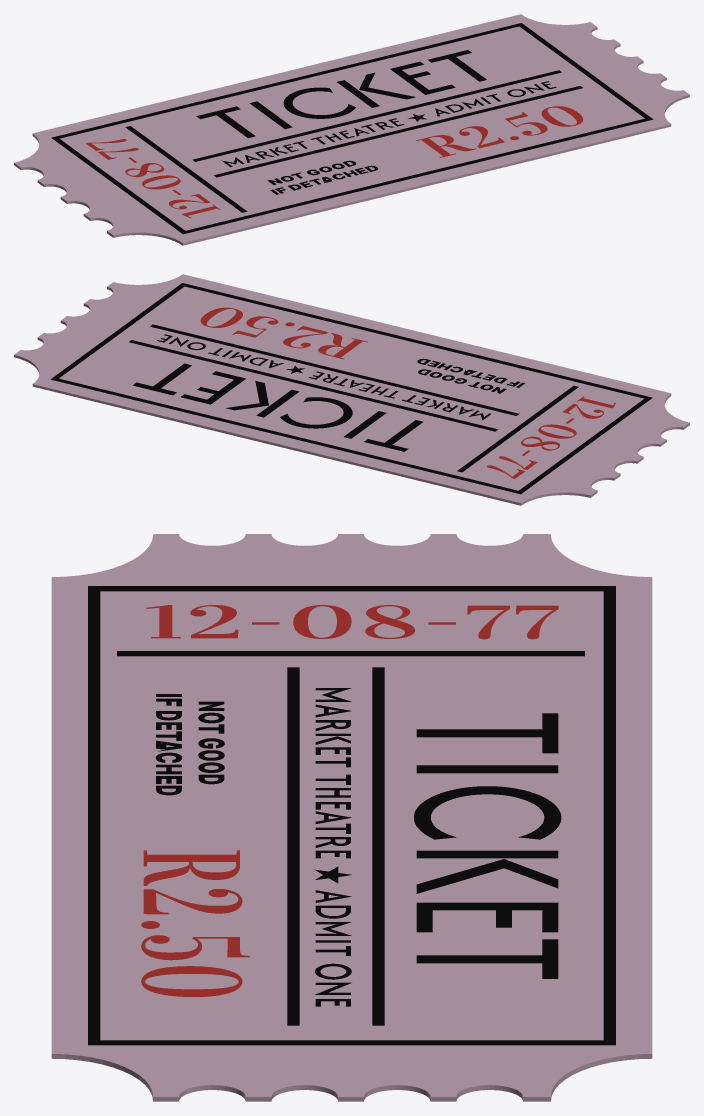
Rendered from theatreticket.glb.
The picture shows the model from 3 angles, top to bottom: view 1: azimuth 30°, elevation 25°; view 2: azimuth 150°, elevation 25°; view 3: azimuth 270°, elevation 25°; orthographic projection. The views are drawn at different scales.
Parts seen in each view (by area): view 1: Mesh, Curve.001, Curve.040, Curve.042, Curve.044, Curve.018, Curve.036, Curve.046, Curve.022; view 2: Mesh, Curve.001, Curve.040, Curve.042, Curve.044, Curve.036, Curve.046, Curve.018, Curve.022; view 3: Mesh, Curve.001, Curve.042, Curve.040, Curve.044, Curve.036, Curve.046, Curve.018, Curve.022, Curve.038, Curve.019, Curve.021 (+1 smaller).
Boxes of the visible parts, box(x1,y1,x2,y2) form: Mesh: box(14, 14, 689, 245); Curve.001: box(51, 23, 653, 234); Curve.040: box(283, 87, 355, 118); Curve.042: box(337, 72, 415, 107); Curve.044: box(390, 61, 455, 94); Curve.018: box(416, 135, 475, 157); Curve.036: box(196, 106, 255, 137); Curve.046: box(428, 50, 486, 81); Curve.022: box(541, 106, 583, 126); Mesh: box(14, 274, 689, 505); Curve.001: box(50, 283, 652, 494); Curve.040: box(280, 397, 352, 428); Curve.042: box(226, 381, 298, 417); Curve.044: box(181, 371, 245, 404); Curve.036: box(364, 420, 423, 451); Curve.046: box(133, 363, 191, 394); Curve.018: box(318, 333, 367, 359); Curve.022: box(200, 307, 242, 327); Mesh: box(51, 534, 652, 1101); Curve.001: box(88, 586, 615, 1045); Curve.042: box(416, 850, 558, 893); Curve.040: box(414, 786, 561, 839); Curve.044: box(416, 902, 558, 931); Curve.036: box(416, 713, 558, 752); Curve.046: box(416, 939, 558, 978); Curve.018: box(143, 850, 239, 885); Curve.022: box(141, 966, 242, 996); Curve.038: box(416, 765, 558, 772); Curve.019: box(143, 889, 242, 914); Curve.021: box(141, 935, 249, 960).
Bounding box in the file's own units: 0.212 × 0.00093 × 0.0957.
